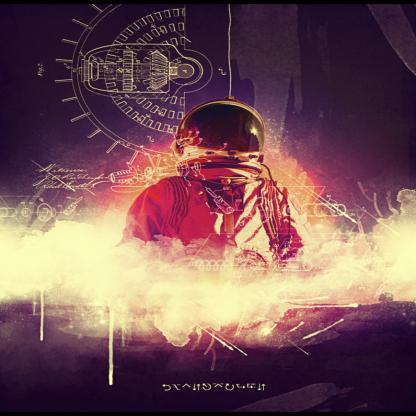Helmet: (162, 95, 266, 177)
